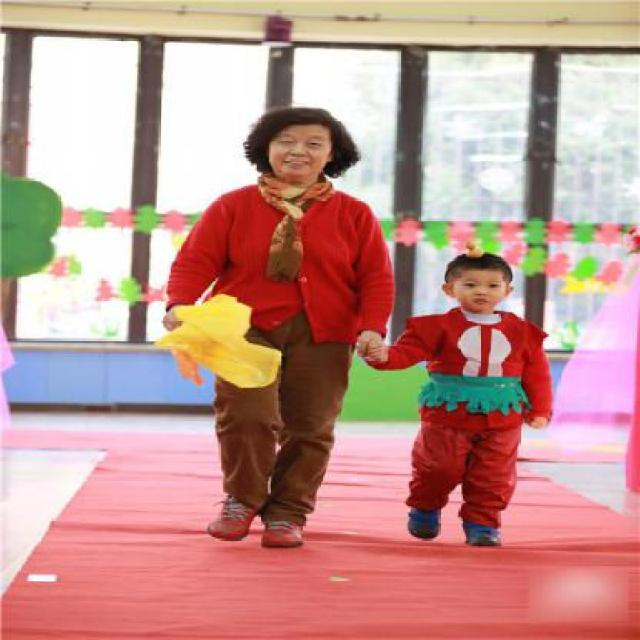Person: (187, 101, 382, 558), (409, 217, 571, 561)
